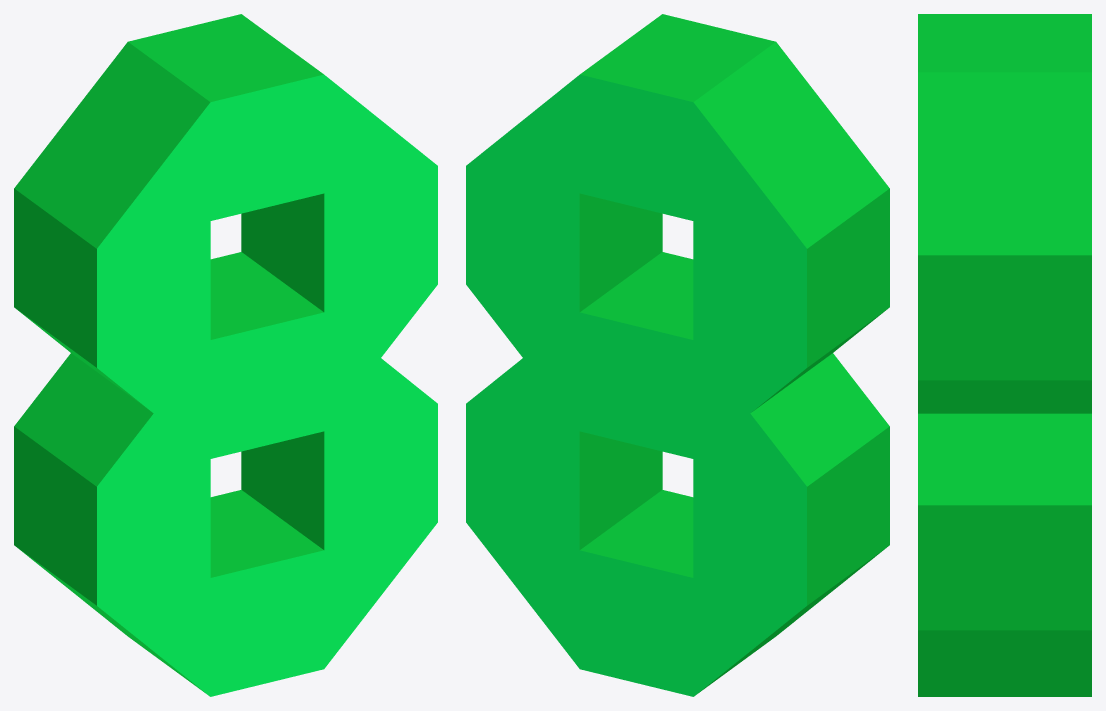
The model's file is d663bfe2-097f-4f03-9259-566619800792.glb.
3 views of the same model, side by side, from view 1: azimuth 30°, elevation 25°; view 2: azimuth 150°, elevation 25°; view 3: azimuth 270°, elevation 25° (orthographic). The views are drawn at different scales.
Visible parts, largest first — view 1: 8_DeltaBlock_Green; view 2: 8_DeltaBlock_Green; view 3: 8_DeltaBlock_Green.
Part boxes in pixels (x1,y1,x2,y2): 8_DeltaBlock_Green: (14, 14, 437, 696); 8_DeltaBlock_Green: (466, 14, 889, 696); 8_DeltaBlock_Green: (918, 14, 1091, 696).
Size of what is drawn, in the model's own units: 0.1071 by 0.1786 by 0.045.
Materials: 2 (2 with a texture image).
